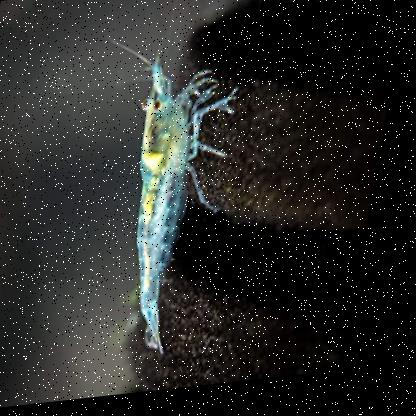shrimp: (104, 55, 248, 369)
